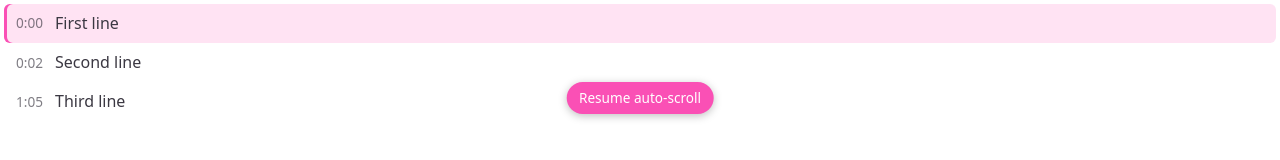
Test: TranscriptPanel › clicking a line while paused seeks and resumes, without scrolling back to the old line
Click the button "1:05 Third line". click: (90, 101)
box: 4,82 -> 1276,122
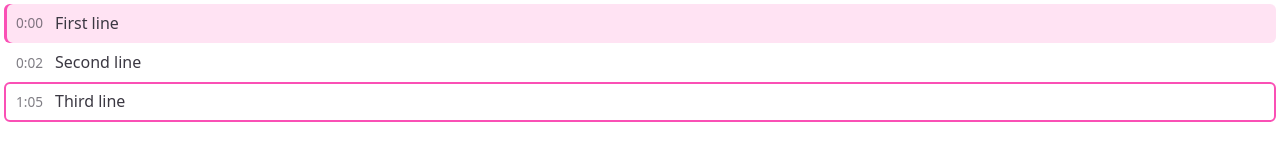
Check: the button "Resume auto-scroll" is gone
